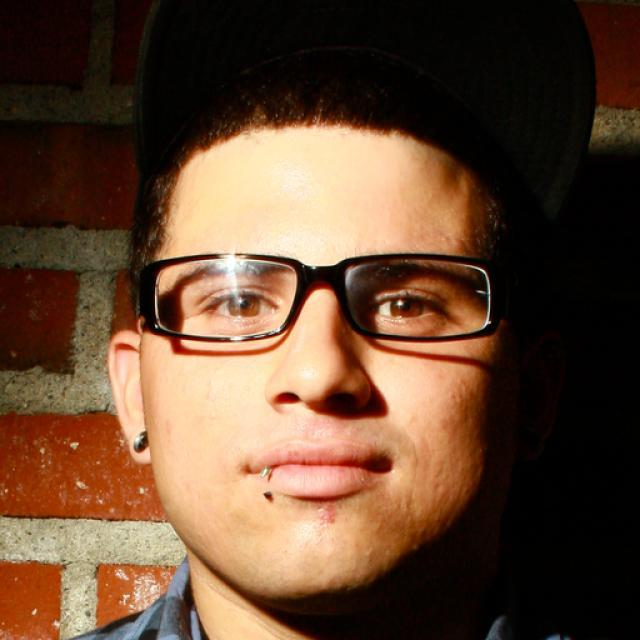content: (144, 134, 506, 596)
